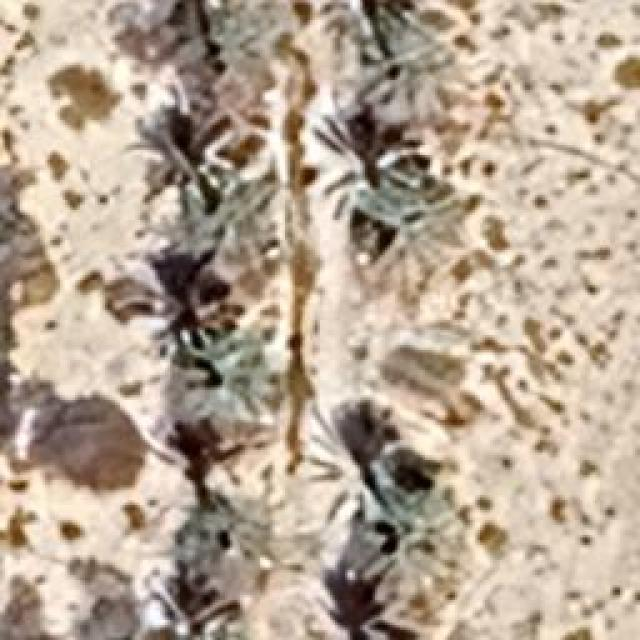PalmTree: (110, 56, 210, 612), (316, 118, 446, 238), (330, 0, 450, 118), (133, 0, 278, 97), (344, 475, 459, 585), (156, 486, 272, 579), (183, 0, 316, 62), (175, 331, 268, 409)
